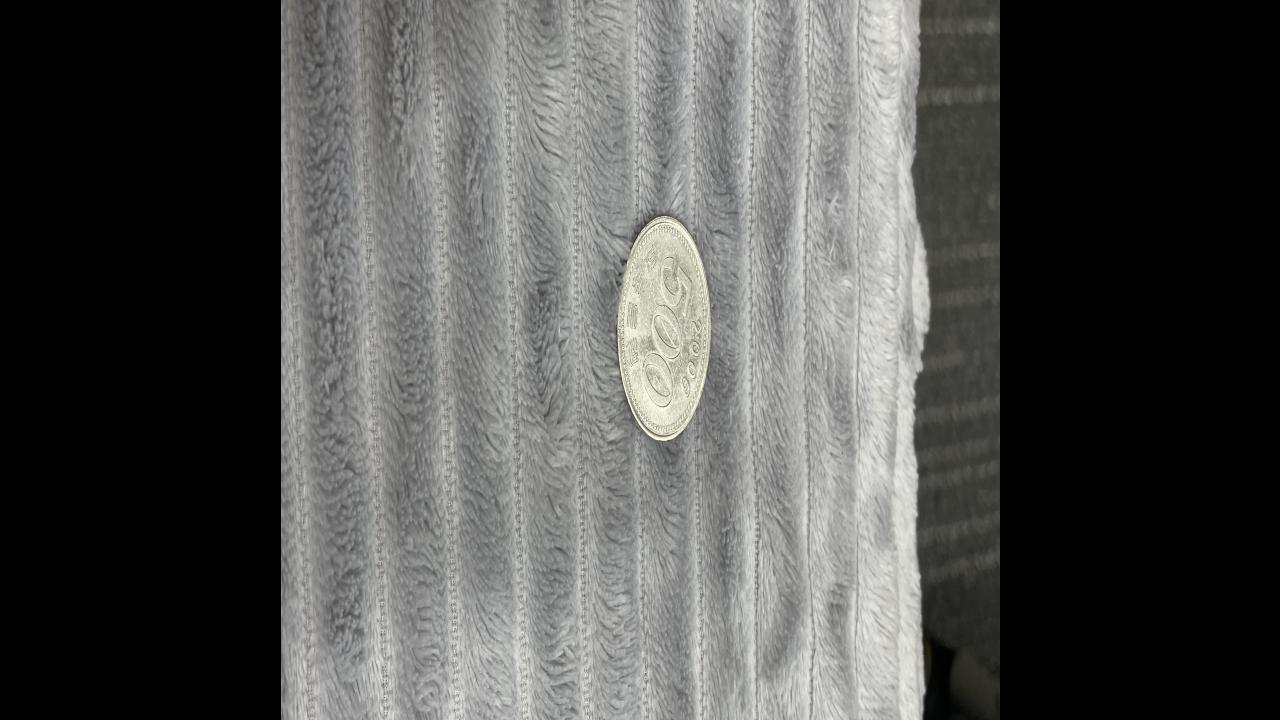coin: (614, 213, 711, 448)
